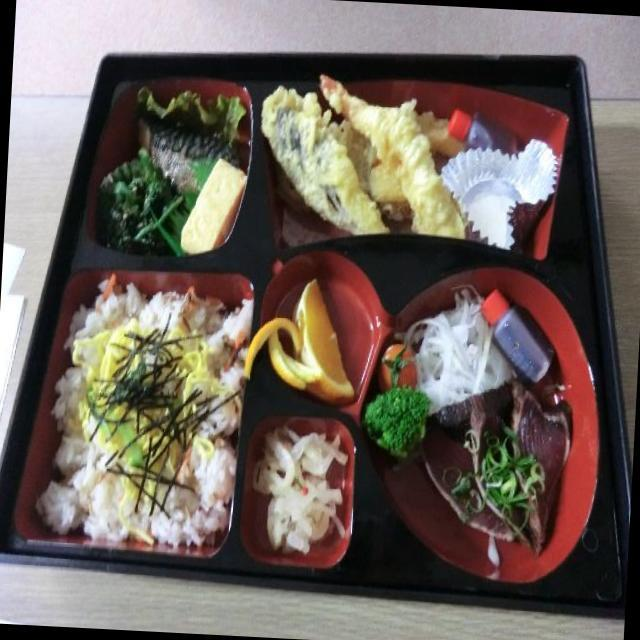Rice: (38, 276, 248, 550)
